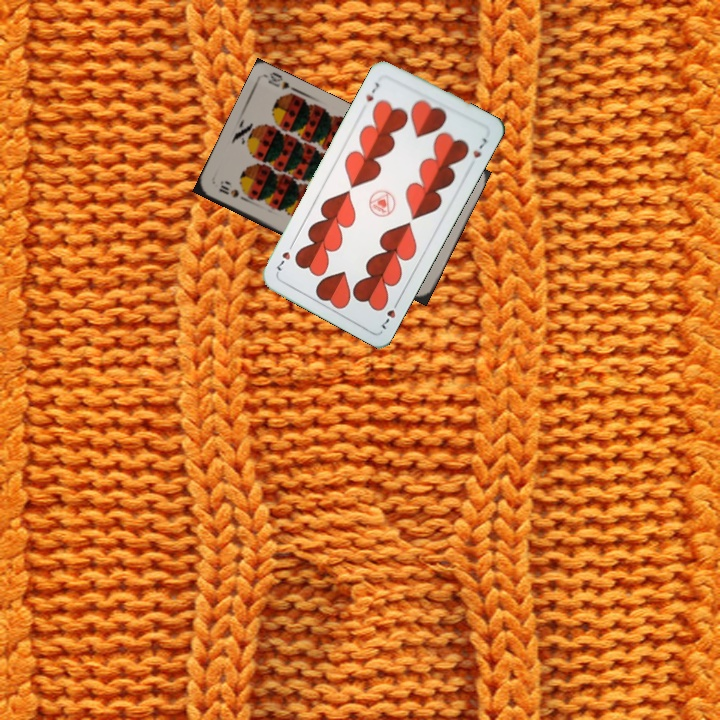H7: (378, 295, 402, 332), (362, 78, 382, 104)
S10: (215, 178, 250, 204)
